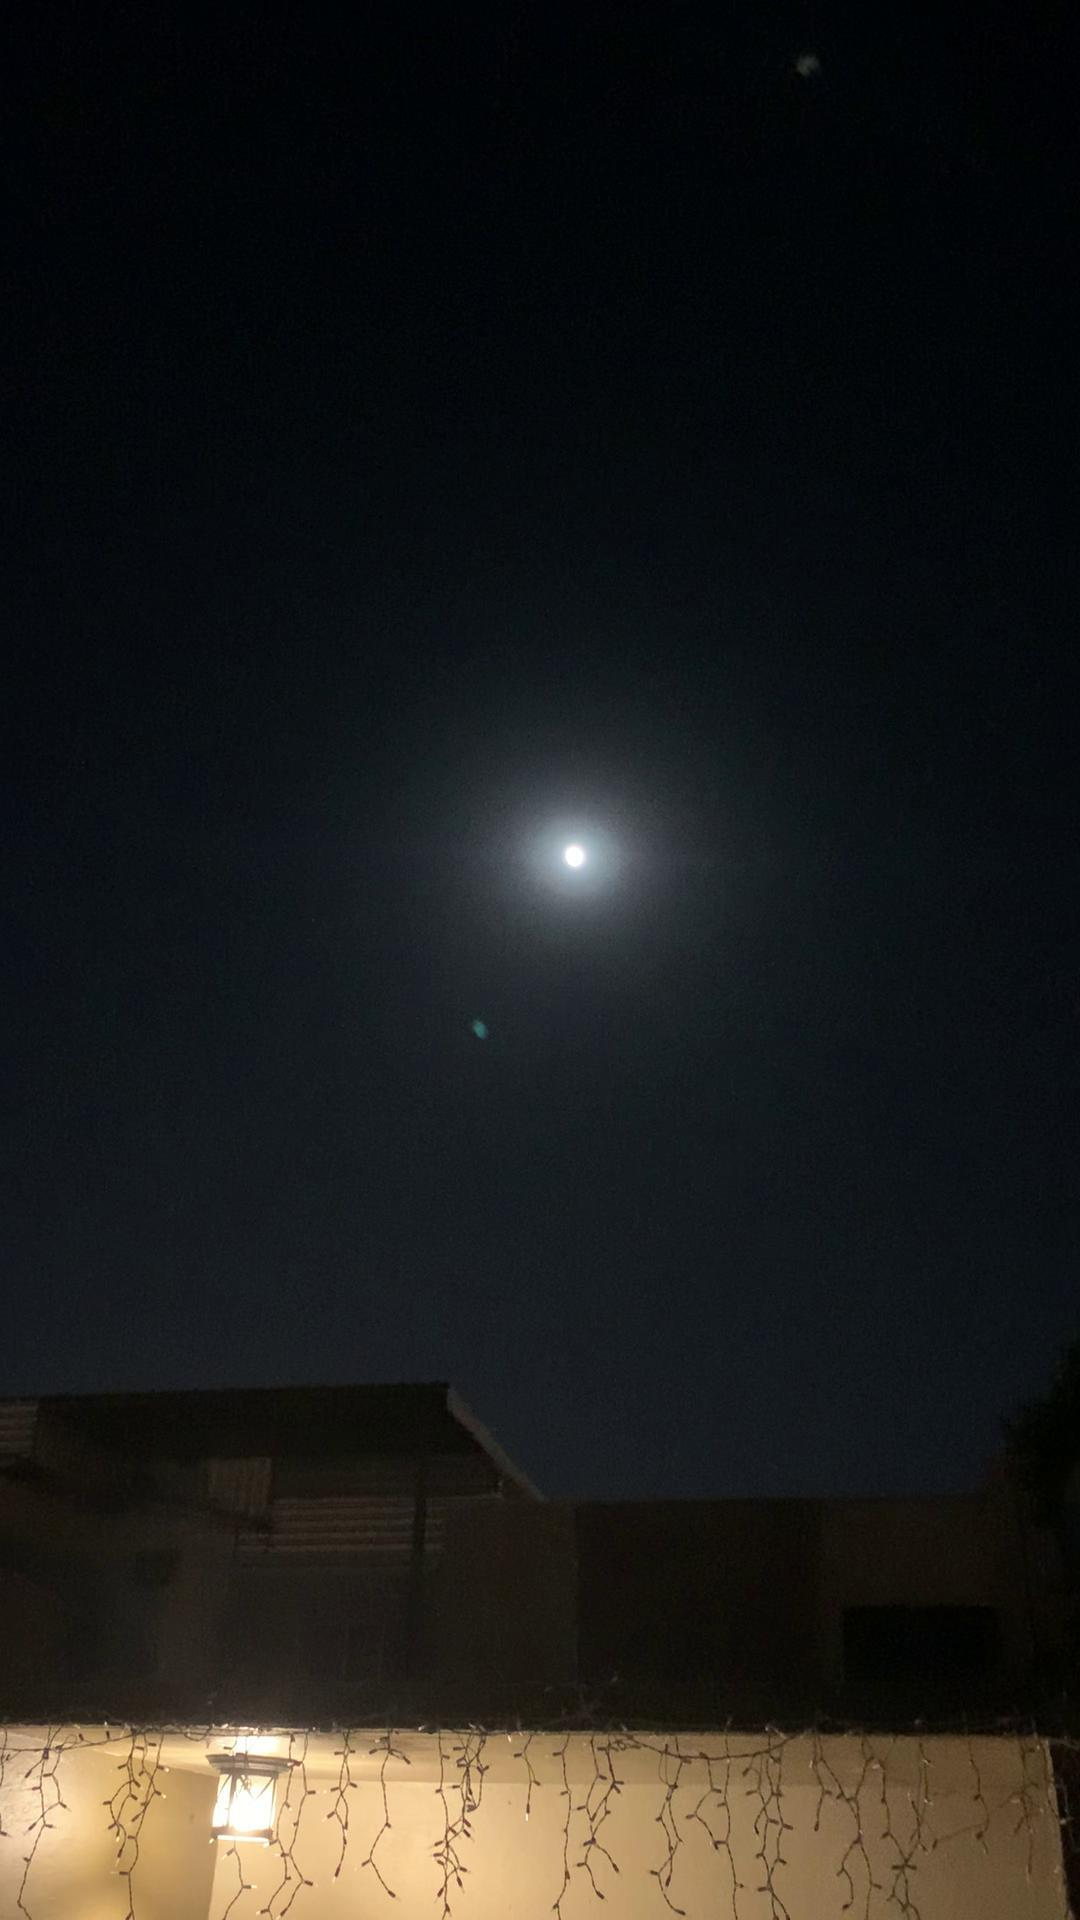moon: (526, 808, 613, 905)
